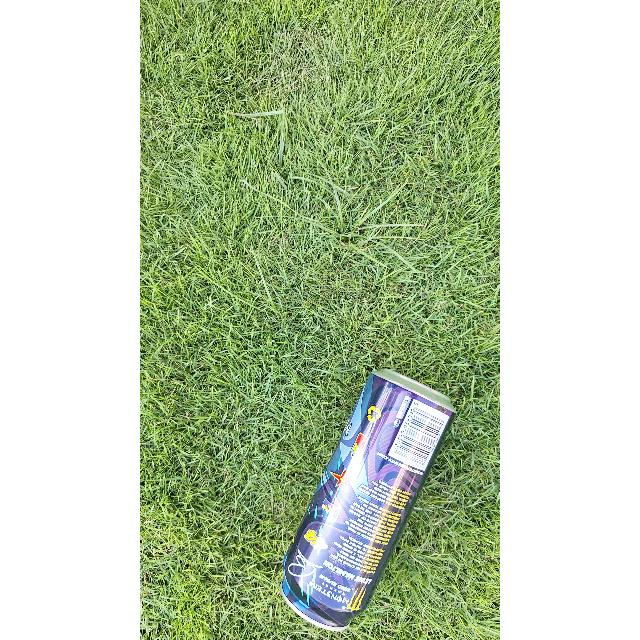Monster LH44: (279, 371, 469, 627)
